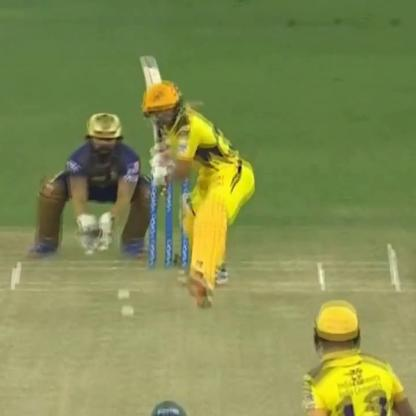ball: (113, 282, 136, 301), (117, 300, 136, 322)
bat: (132, 45, 184, 184)
pitch: (4, 231, 416, 415)
